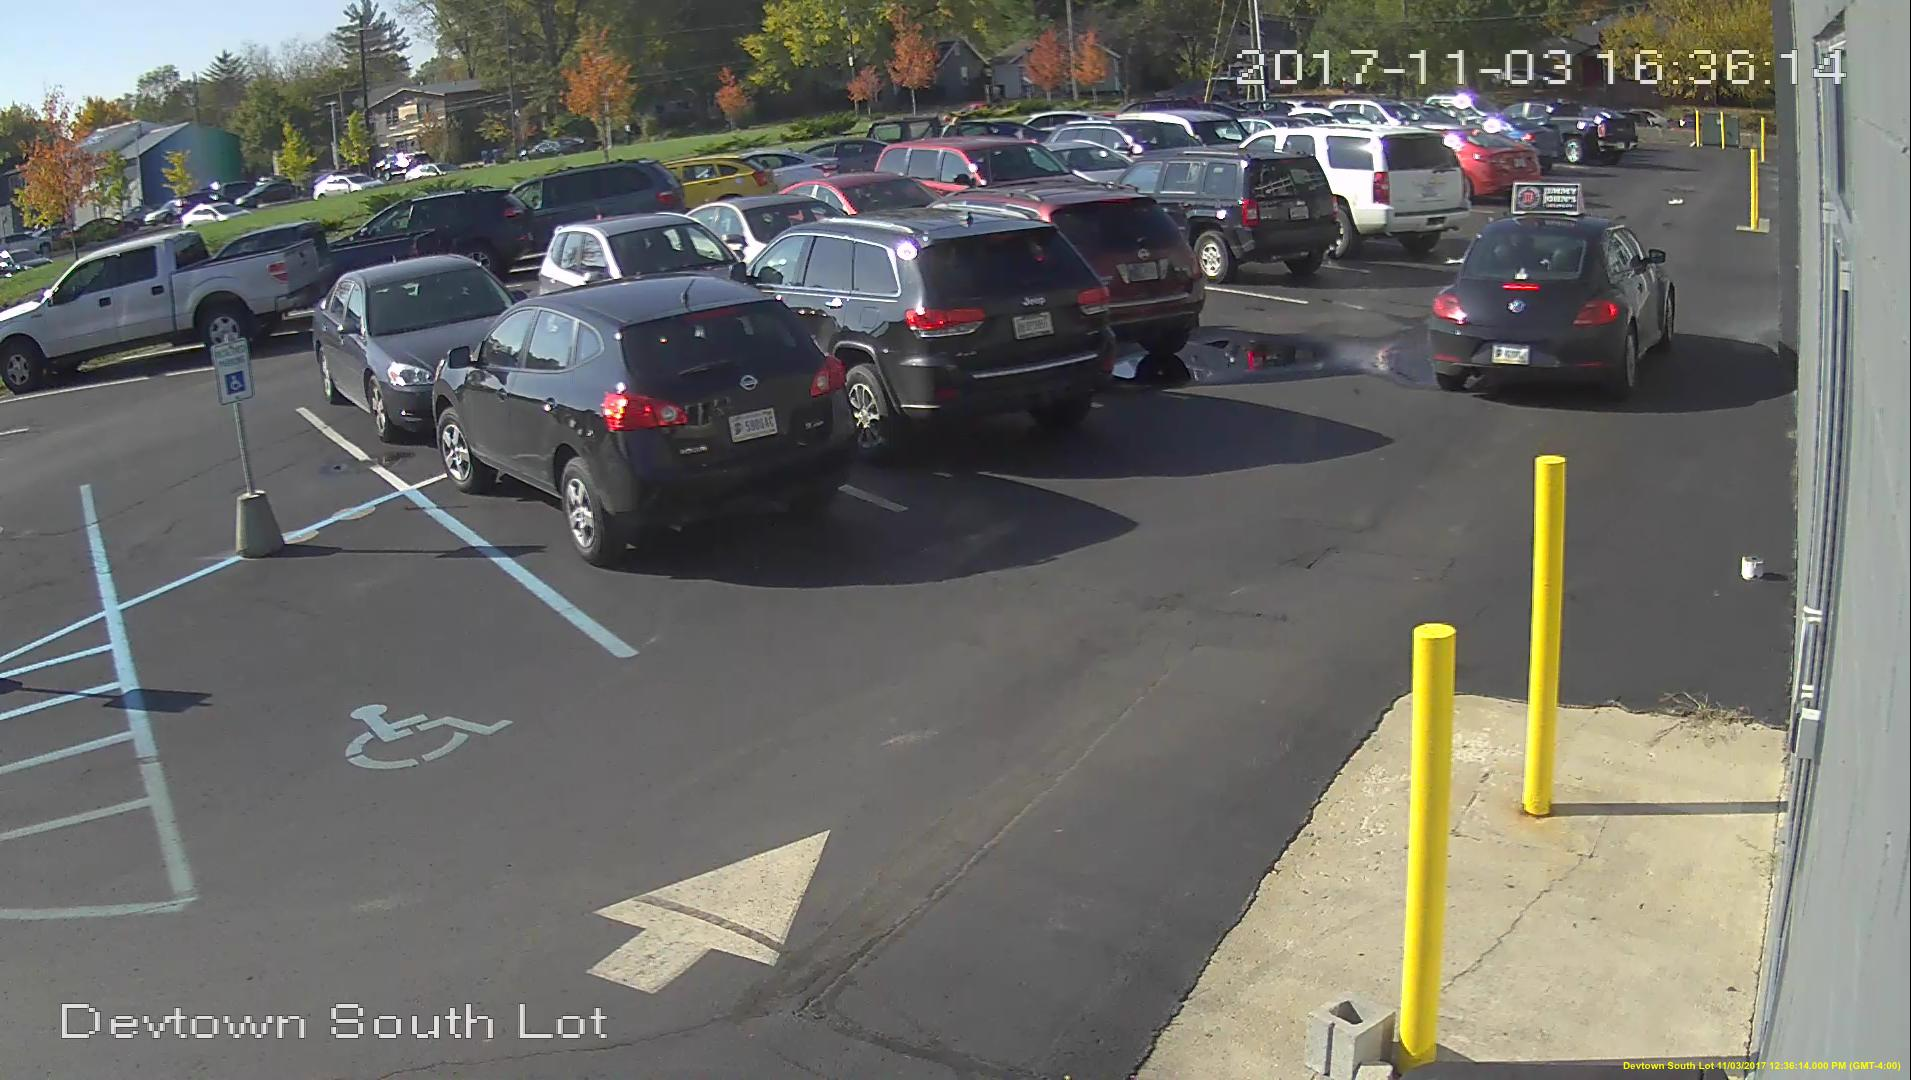jimmy_johns: (1505, 177, 1589, 218)
